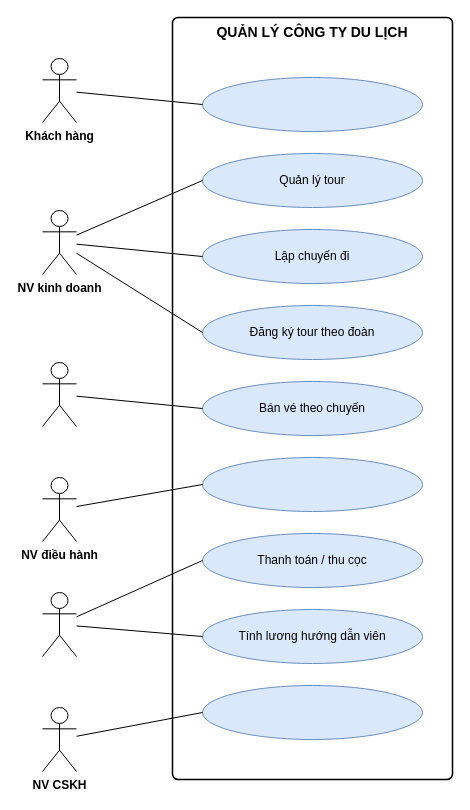
Image size: 470x810. Some labels were removed from this diagram. Each missing label, with the centre of its shape:
"Khảo sát khách hàng" belongs at (312,712).
"Kế toán" belongs at (59,624).
"NV bán vé" belongs at (59,394).
"Phân công hướng dẫn viên" belongs at (312,484).
"Xem thông tin tour" belongs at (312,104).
